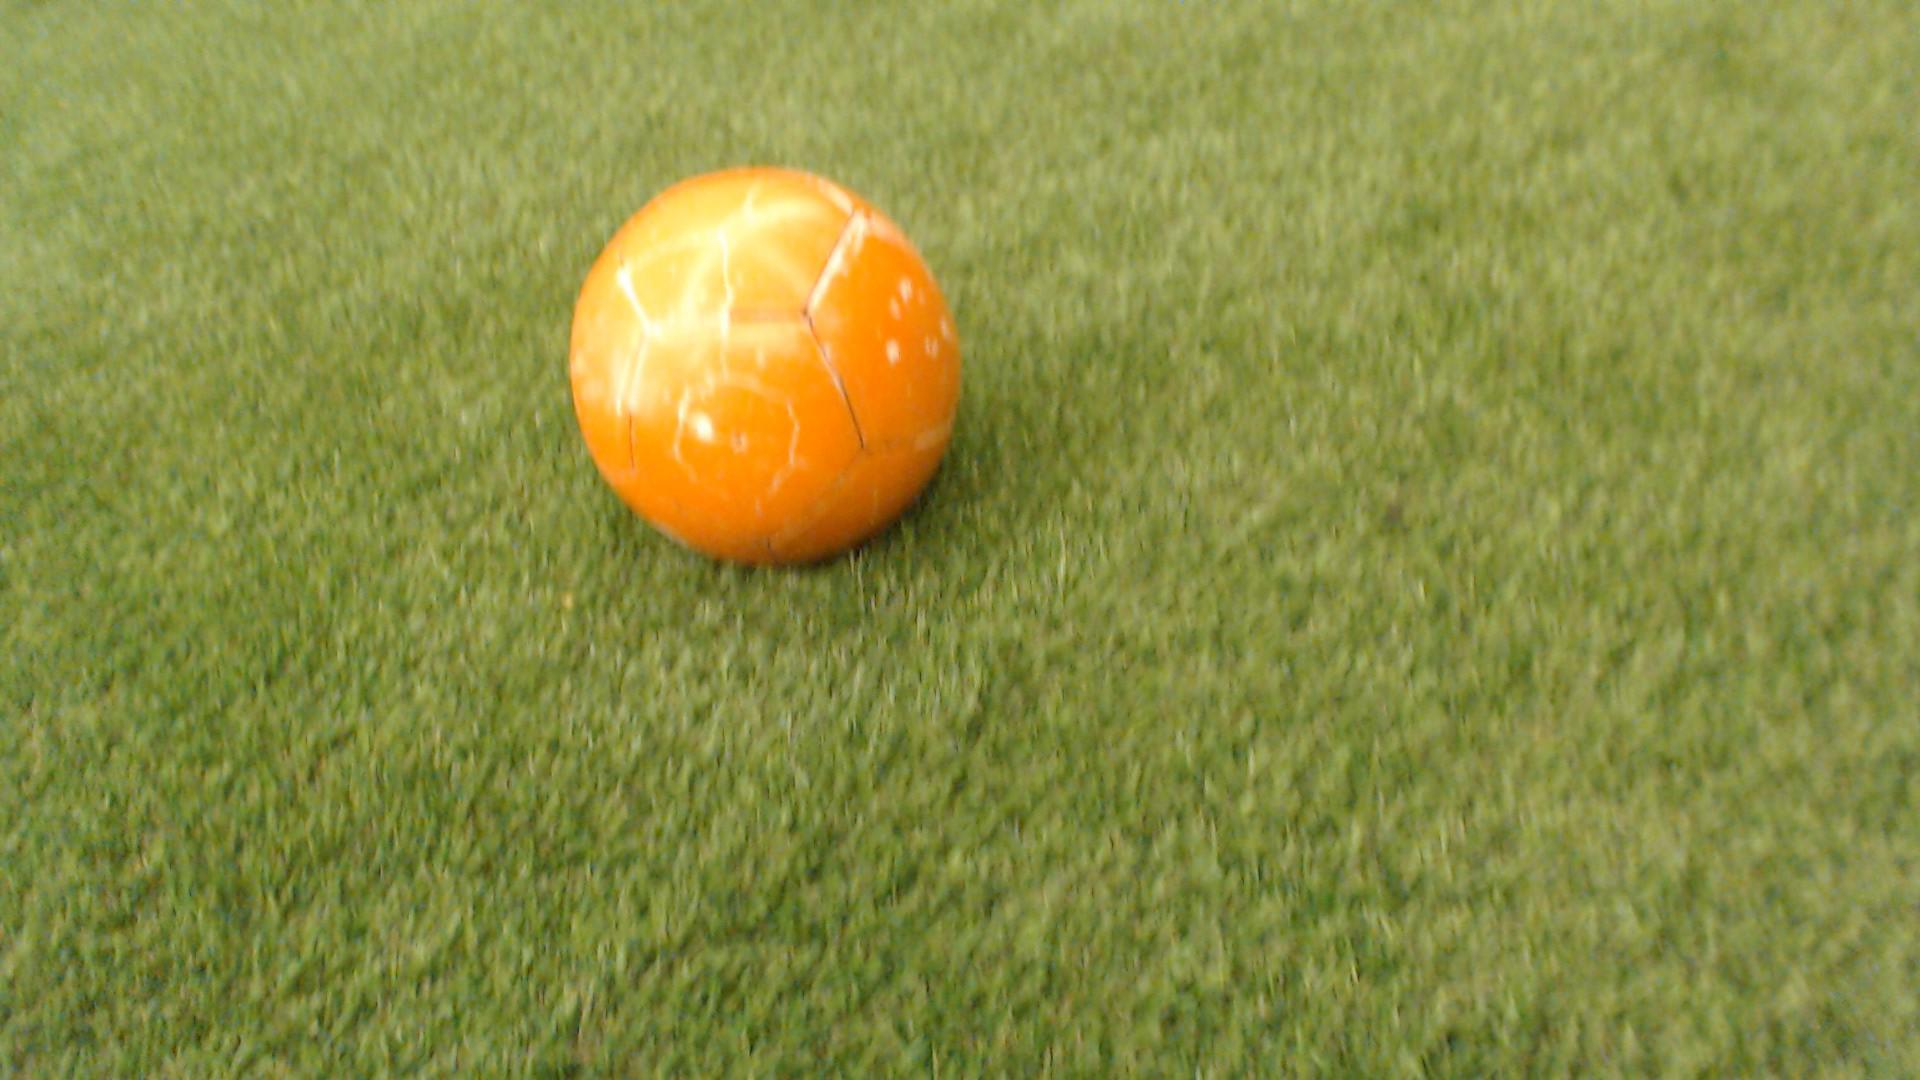bola: (522, 136, 1018, 583)
